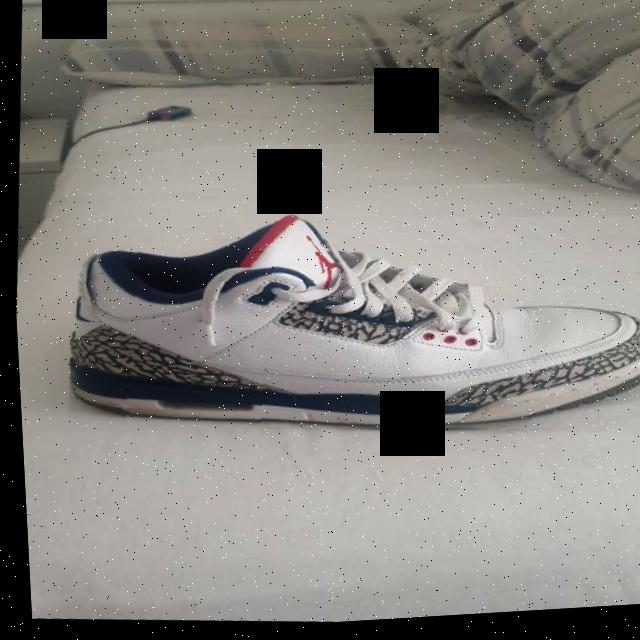shoe: (54, 186, 640, 468)
